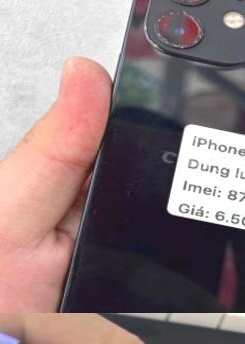scratch: (128, 0, 245, 88)
